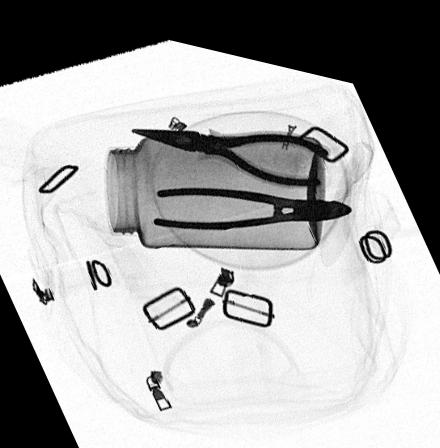Pliers: (128, 118, 326, 171), (152, 176, 354, 221)
